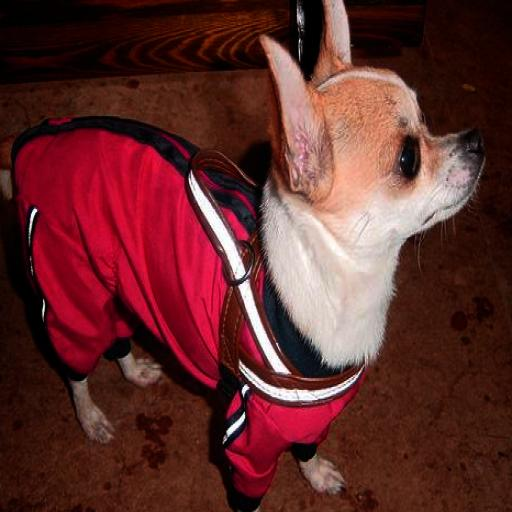dog_face: (260, 0, 487, 243)
